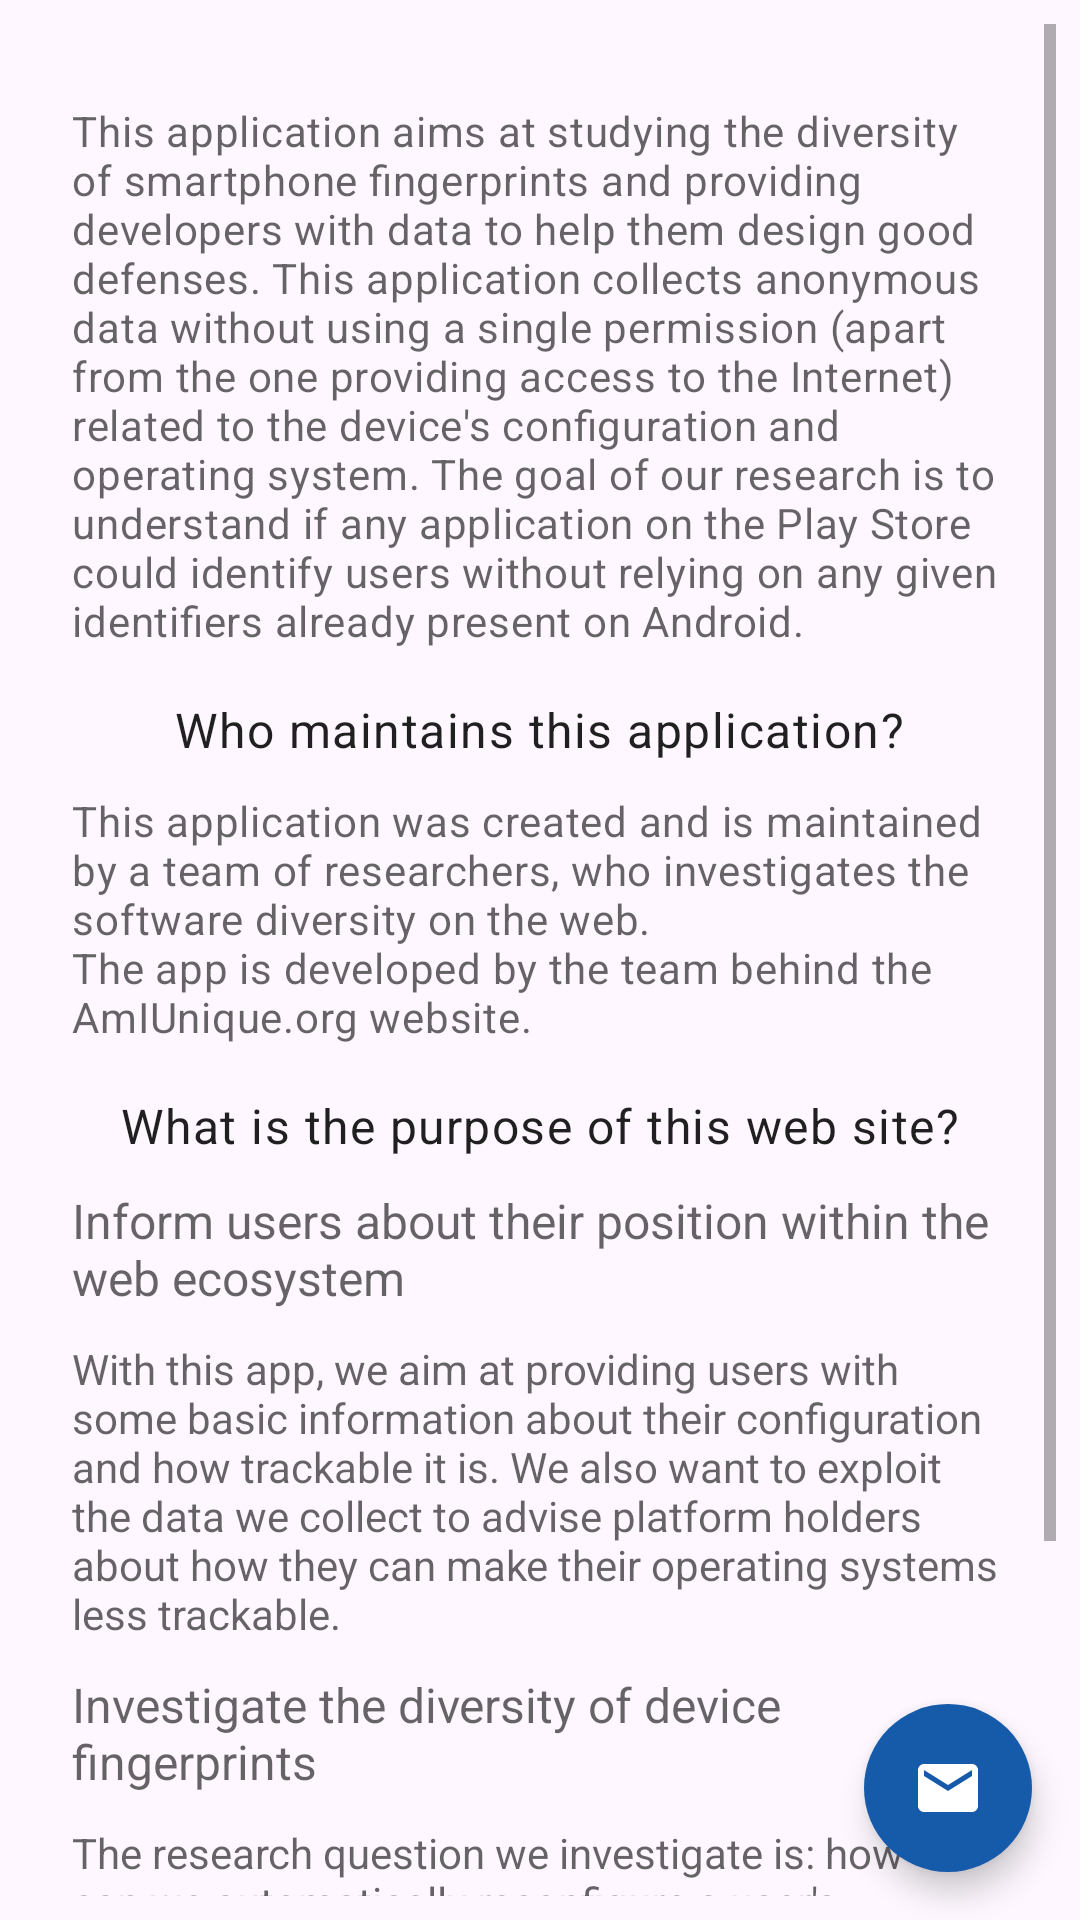

Icon bounding boxes for this 1080 x 1920 phone screenshot, format [left=x1, top=y1, right=x2, bottom=y2]:
Mail Us: [left=864, top=1704, right=1032, bottom=1872]
